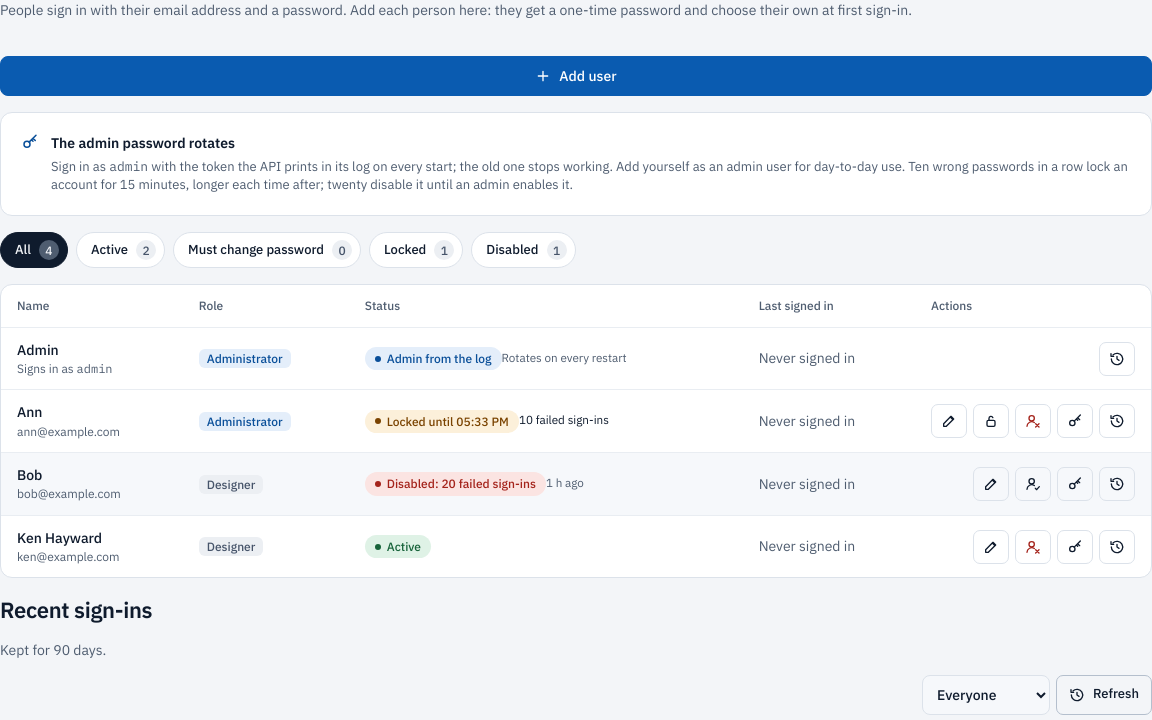
AccessPage › reissues after confirming and shows the new password
What coordinates should you click on to do the following:
click the button named "Reissue one-time password for Ken Hayward"
I would click on:
 (1075, 547)
Its box is [1057,530,1093,564].
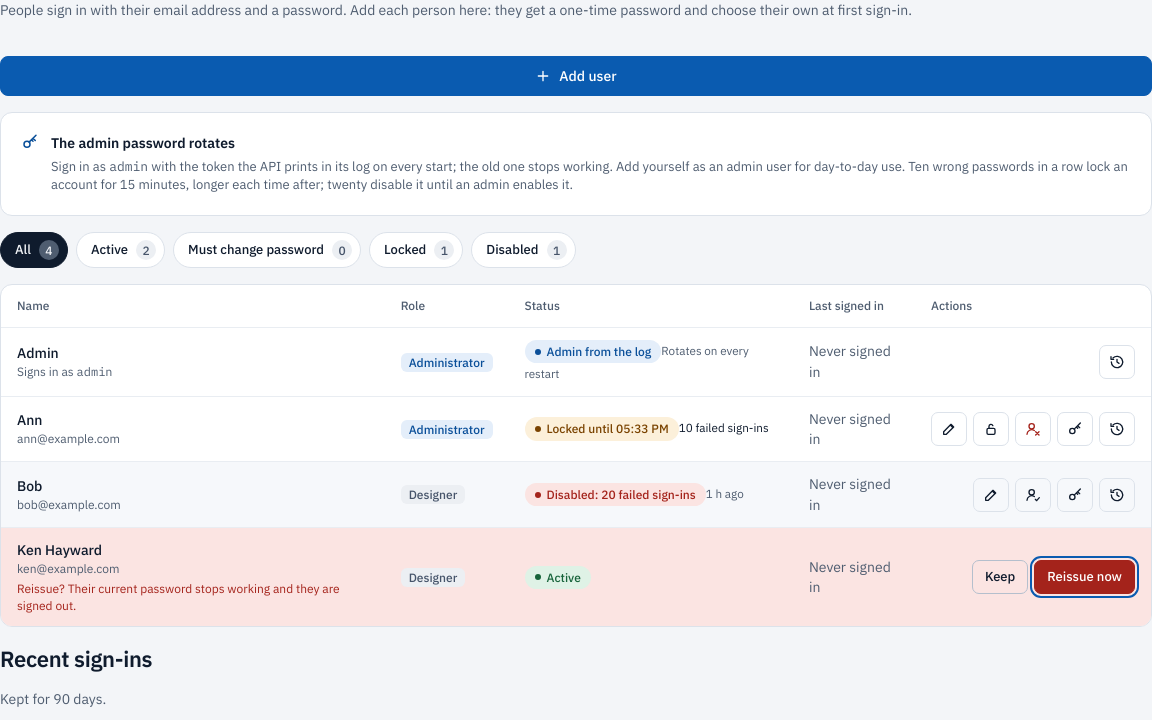
expect the text "Reissue? Their current password stops working and they are signed out." is shown: met, box [17,580,369,614]
What coordinates should you click on to do the following:
click the button "Reissue now"
I would click on:
 (1085, 577)
Its box is [1034,560,1135,594].
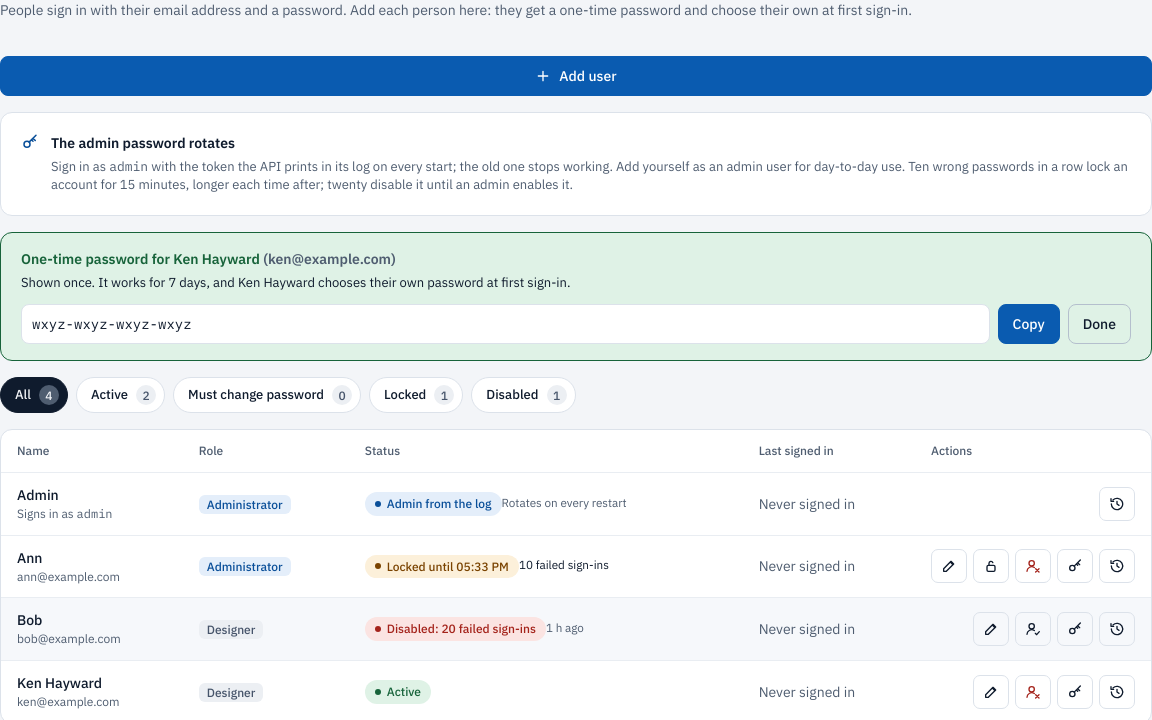
expect the field showing "wxyz-wxyz-wxyz-wxyz" is shown: met, box [21,304,990,344]
